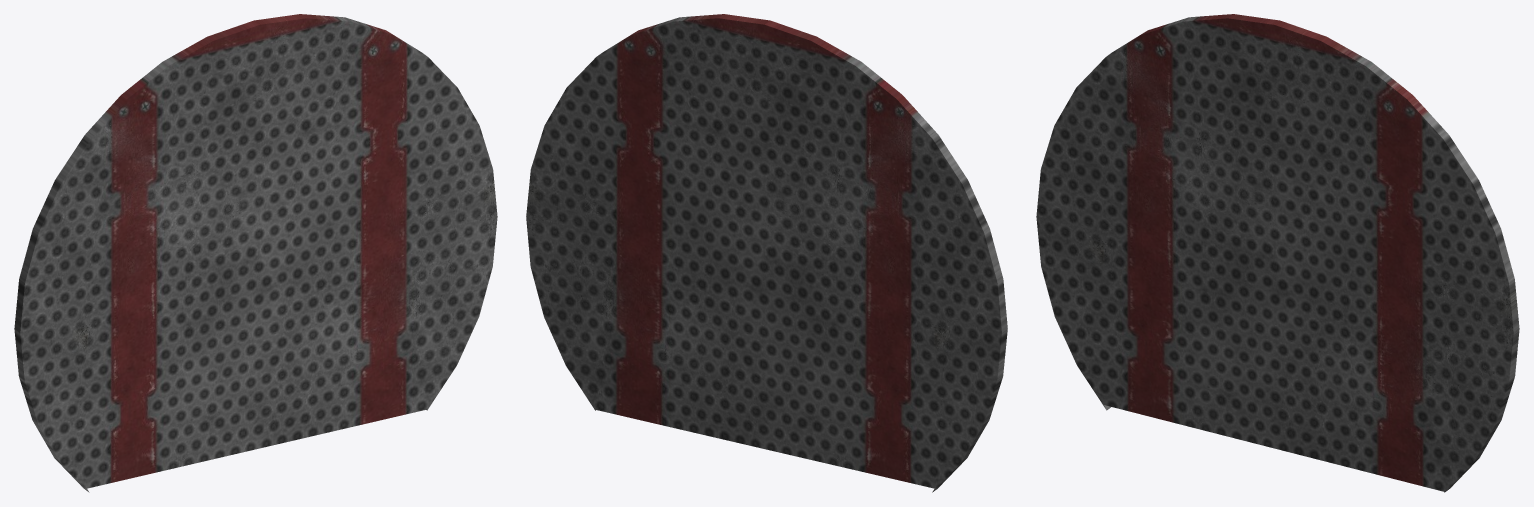
The model's file is PortaTrancada.fbx.
3 renders of one model, left to right at view 1: azimuth 30°, elevation 25°; view 2: azimuth 150°, elevation 25°; view 3: azimuth 330°, elevation 25°, orthographic.
Visible parts, largest first — view 1: Cylinder; view 2: Cylinder; view 3: Cylinder.
Boxes of the visible parts, x1,y1,x2,y2 form: Cylinder: [14, 14, 497, 492]; Cylinder: [526, 14, 1007, 492]; Cylinder: [1036, 14, 1519, 492].
Size of the model in its own units: 198 by 170 by 4.96.
Materials: 1 (1 with a texture image).
